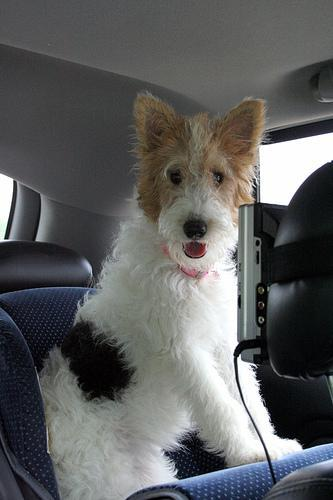wire-haired_fox_terrier: (36, 90, 305, 497)
